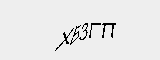Б: (69, 23, 83, 47)
Г: (87, 19, 101, 43)
З: (77, 22, 89, 44)
П: (99, 21, 117, 41)
Х: (51, 28, 72, 55)
